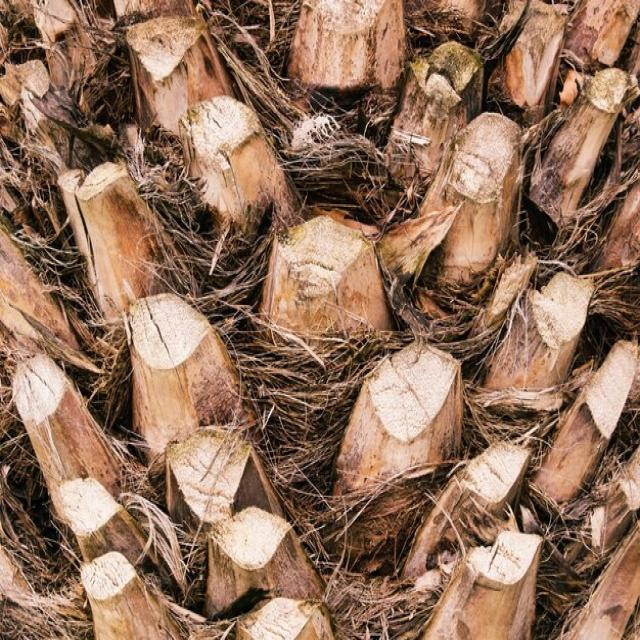dry_waste: (351, 0, 618, 627), (0, 319, 348, 640), (3, 0, 336, 297)
